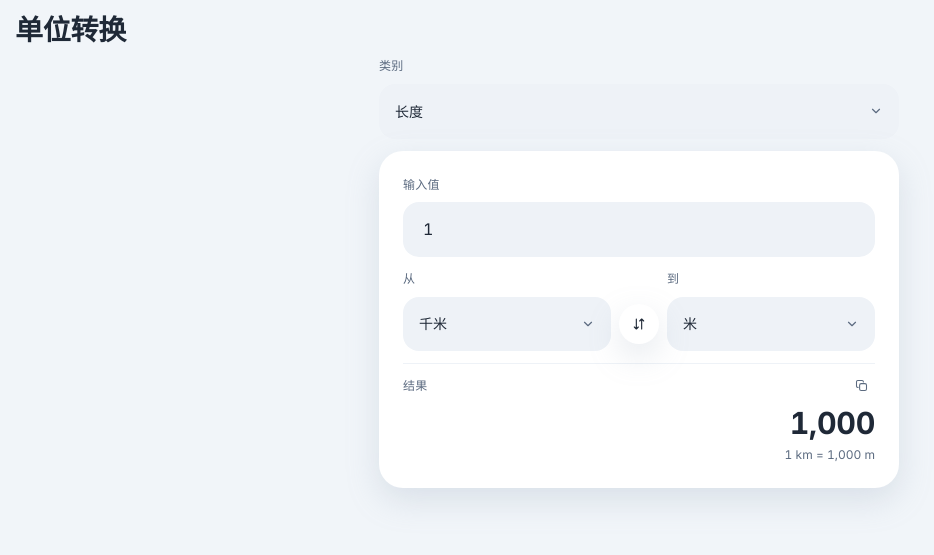
it: ConverterPage › shows the localized error and hint when currency rates are offline
This screenshot has width=934, height=555.
Click the dropdown named "类别" at (409, 111), box x1=379 y1=84 x2=899 y2=139
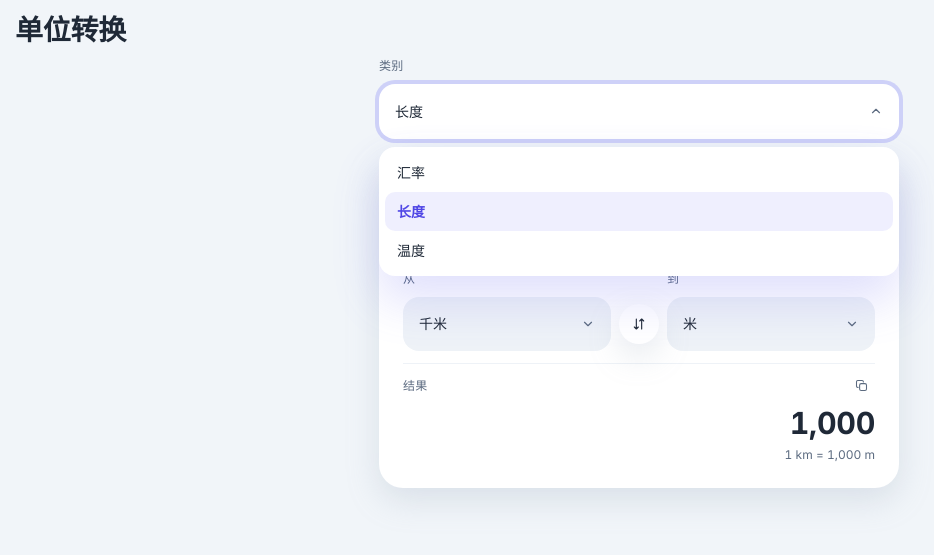
Click the option "汇率" at (411, 172), box x1=397 y1=164 x2=425 y2=181
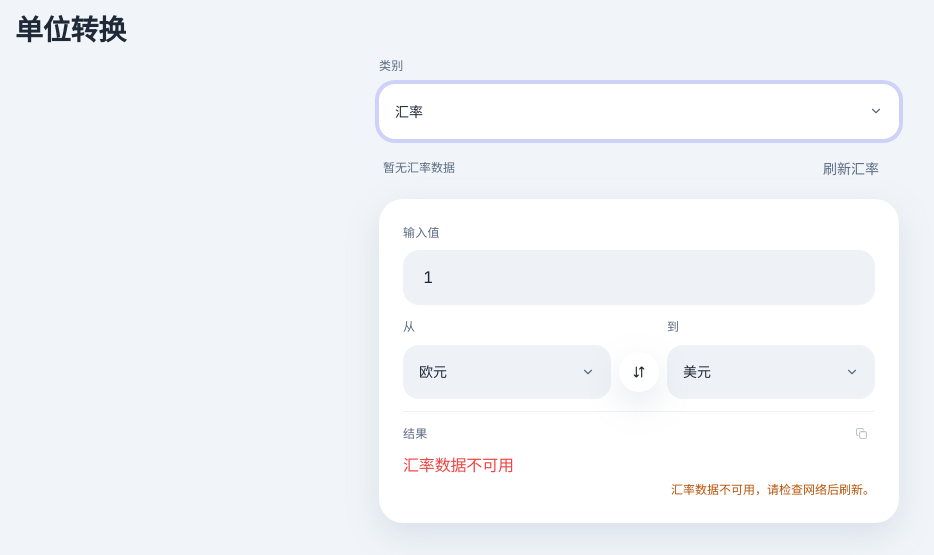
expect the text with test id "unit-result" reads "汇率数据不可用": met, box x1=403 y1=455 x2=514 y2=475
expect the text "汇率数据不可用，请检查网络后刷新。" is shown: met, box x1=671 y1=482 x2=875 y2=497
expect the button named "复制" is disabled: met, box x1=847 y1=420 x2=875 y2=448
